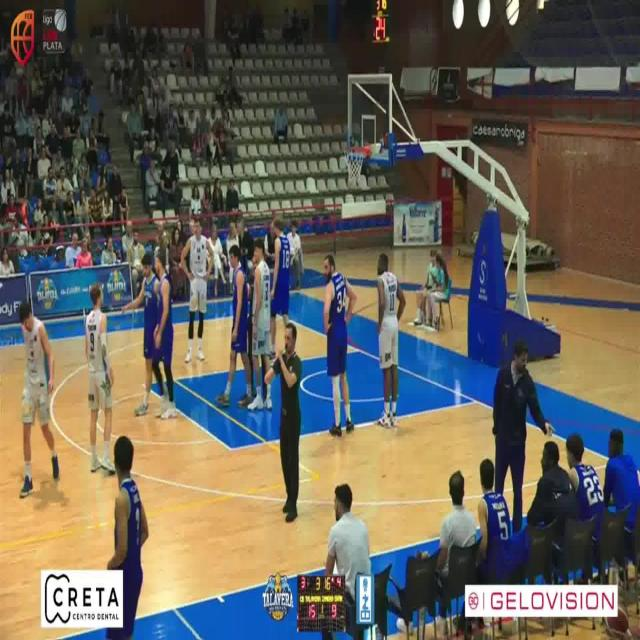basket: (347, 145, 371, 182)
bench person: (494, 340, 553, 532), (106, 436, 148, 640)
player: (18, 301, 58, 497), (323, 253, 357, 436), (123, 252, 158, 416), (85, 283, 114, 474), (218, 245, 251, 407), (378, 252, 406, 428), (181, 215, 213, 362), (152, 246, 177, 419), (248, 238, 272, 410), (270, 216, 290, 355)
referee: (265, 322, 302, 523)
